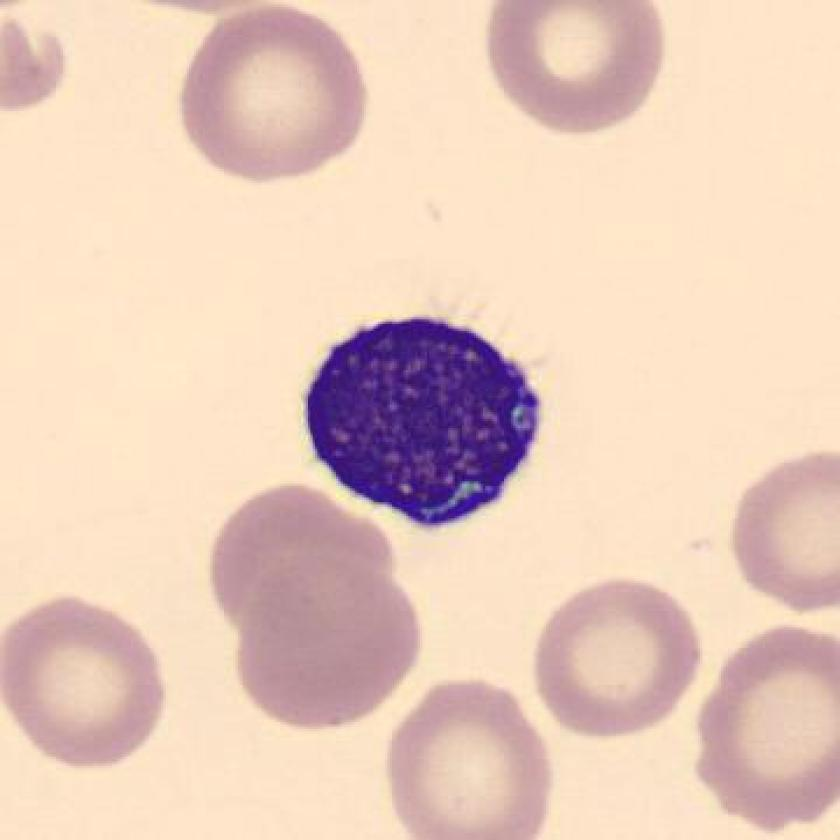lymphocyte: (286, 295, 561, 545)
